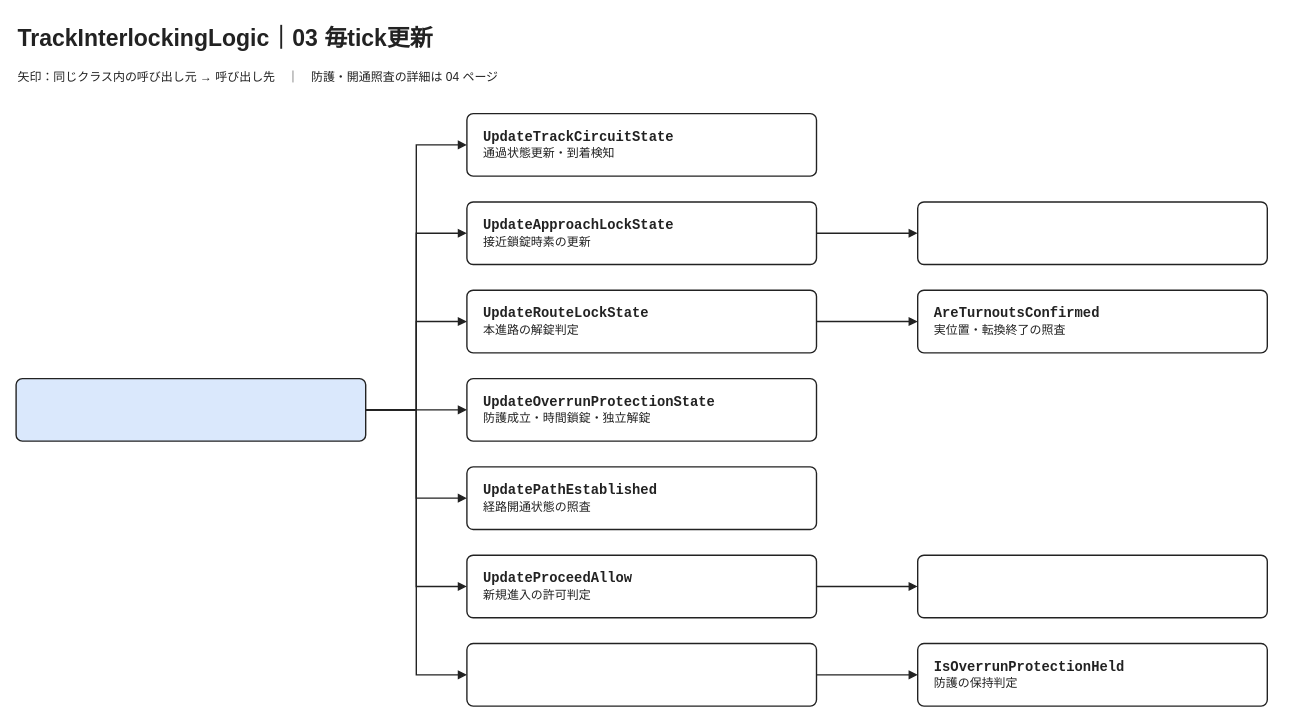
Some shapes in this 1293 by 722 pixel diagram are drawn without their labels. The centre of each missing label's shape, as x and y in pixels:
"Calculate 各進路の状態更新と削除判定" belongs at pixel 190 409.
"CanDeleteRouteState 全鎖錠解消後の状態削除判定" belongs at pixel 641 674.
"CanSetRouteTurnouts 未進入・未取消・本進路空きを確認" belongs at pixel 1092 586.
"IsValidDeltaTime 経過時間の妥当性を確認" belongs at pixel 1092 233.
